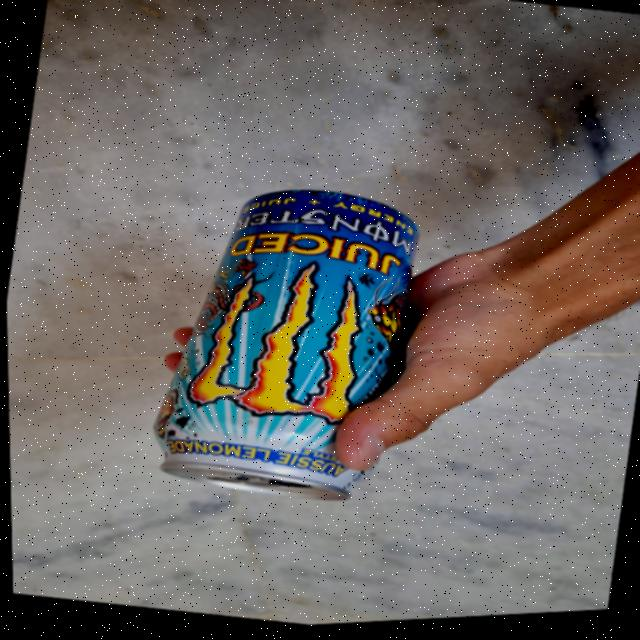Monster Aussie Lemonade: (155, 169, 410, 501)
